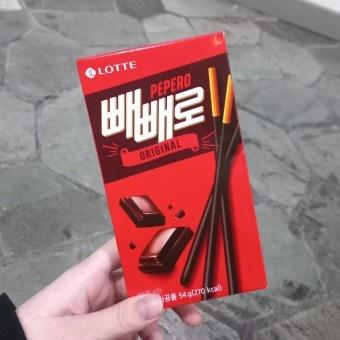snack: (77, 28, 269, 312)
